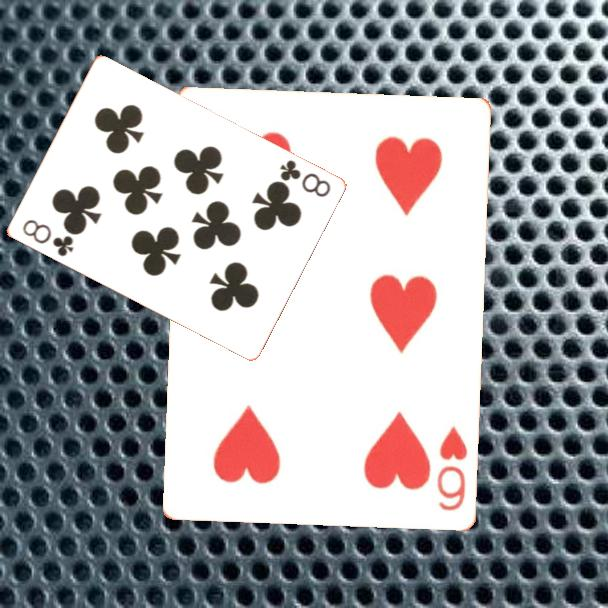c08: (19, 216, 76, 260), (276, 156, 333, 200)
h06: (433, 422, 469, 513)
